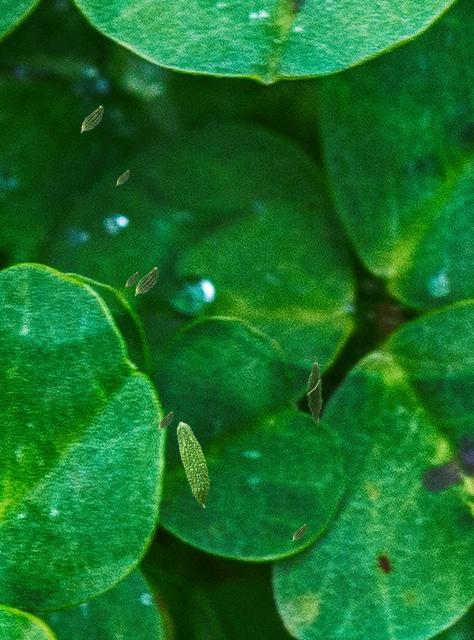ampalaya: (176, 421, 210, 508), (305, 355, 324, 426), (134, 266, 158, 296), (80, 105, 103, 133), (157, 411, 173, 430), (292, 524, 306, 541), (116, 169, 129, 186), (125, 271, 138, 288)
